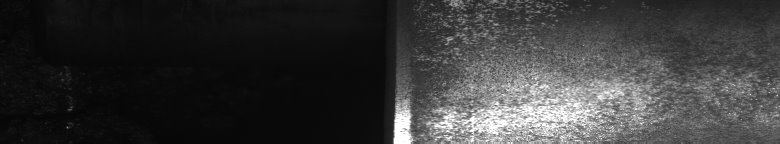kb: (408, 4, 776, 136)
